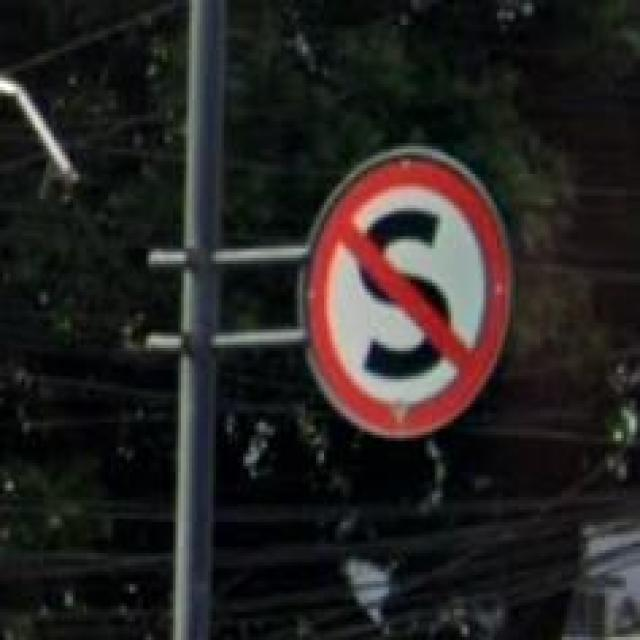traffic sign: (308, 155, 502, 438)
